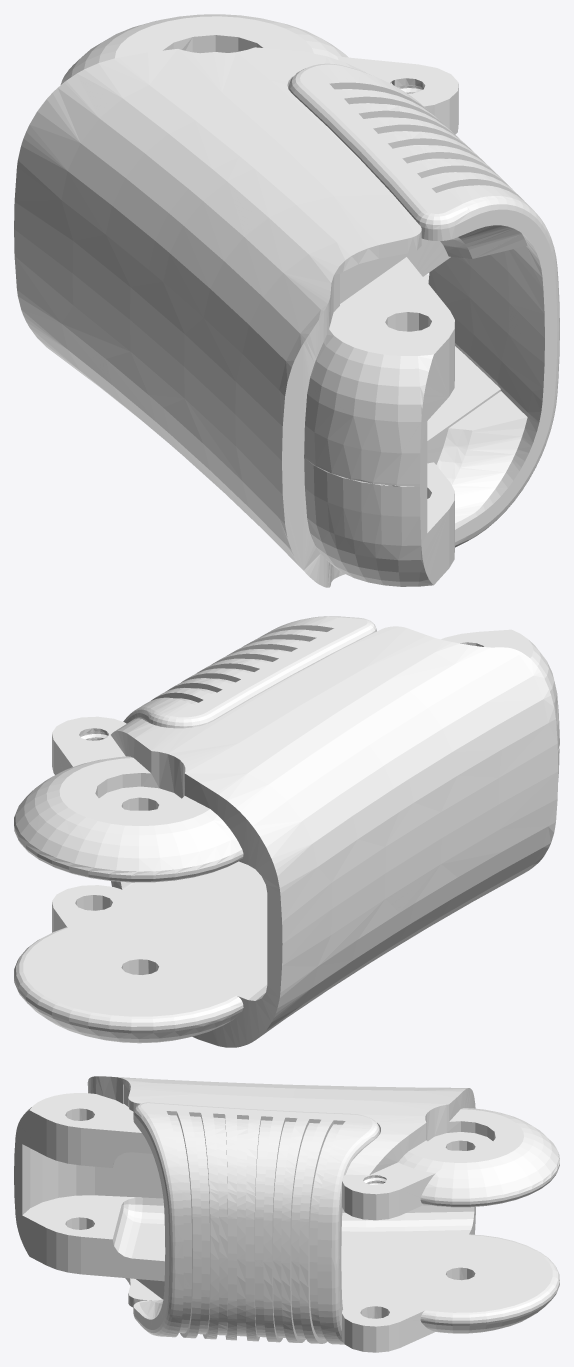
File: lh_index_middle_vis.obj
3 views of the same model, one above another, from view 1: azimuth 30°, elevation 25°; view 2: azimuth 150°, elevation 25°; view 3: azimuth 270°, elevation 25° (orthographic). The views are drawn at different scales.
Parts seen in each view (by area): view 1: lh_index_middle; view 2: lh_index_middle; view 3: lh_index_middle.
Boxes of the visible parts, x1,y1,x2,y2 form: lh_index_middle: (14, 14, 559, 587); lh_index_middle: (14, 616, 559, 1047); lh_index_middle: (14, 1076, 559, 1352).
Size of the model in its own units: 0.0196 by 0.016 by 0.0369.
1 material, 1 textured.
